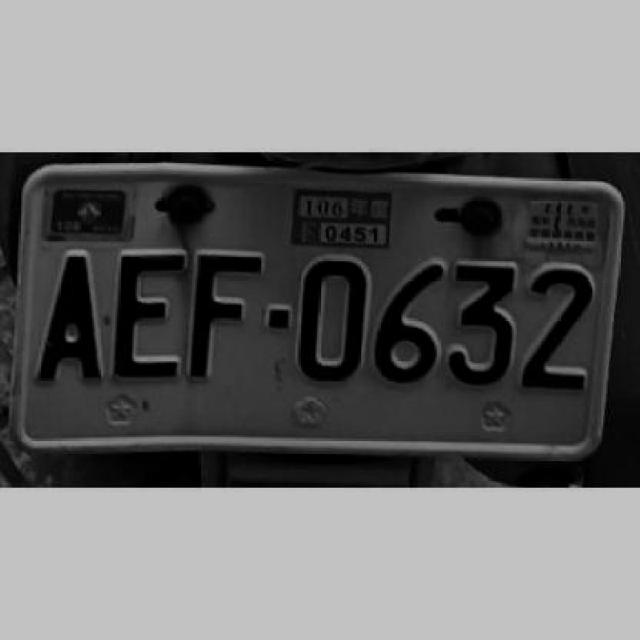-: (268, 305, 289, 329)
0: (291, 251, 370, 384)
2: (516, 259, 594, 390)
3: (442, 257, 515, 385)
6: (366, 256, 444, 385)
A: (37, 250, 101, 382)
E: (112, 251, 186, 378)
F: (183, 247, 263, 379)
